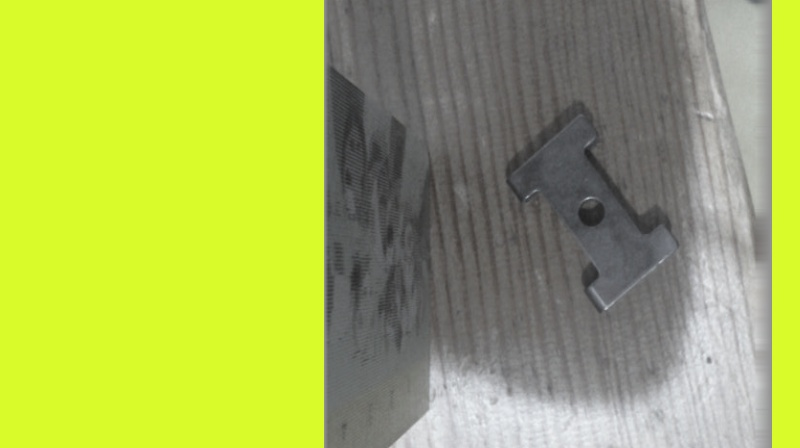O002: (502, 112, 679, 317)
